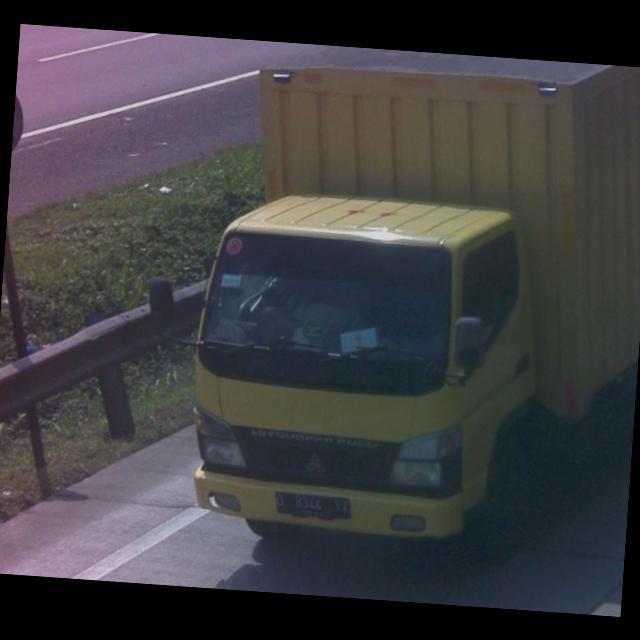plate: (271, 491, 353, 523)
